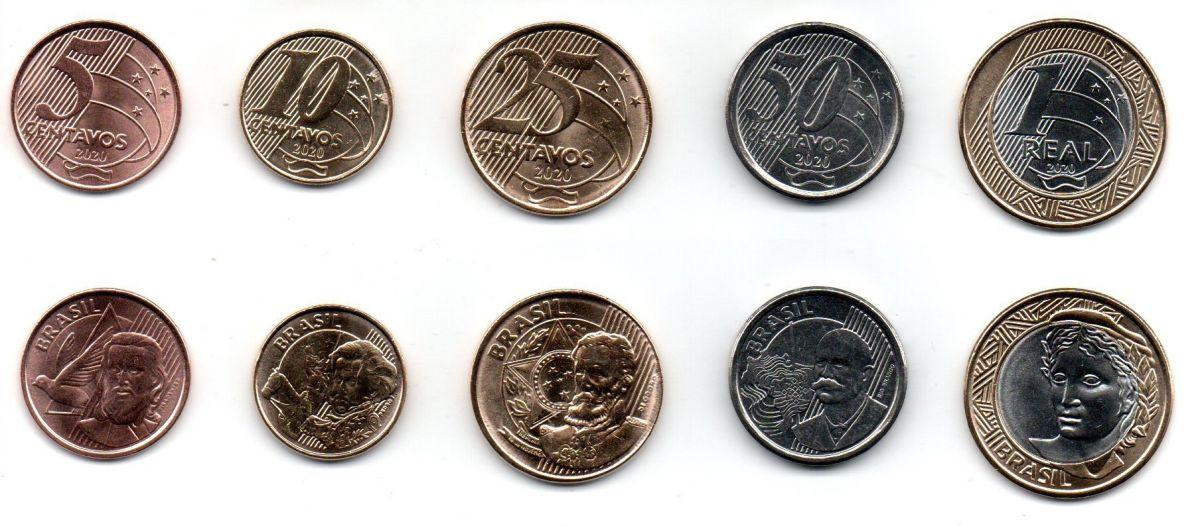1 real: (958, 18, 1169, 230), (963, 289, 1173, 499)
10 cent: (237, 28, 394, 188), (251, 305, 405, 461)
25 cent: (708, 274, 922, 480), (722, 20, 907, 205)
